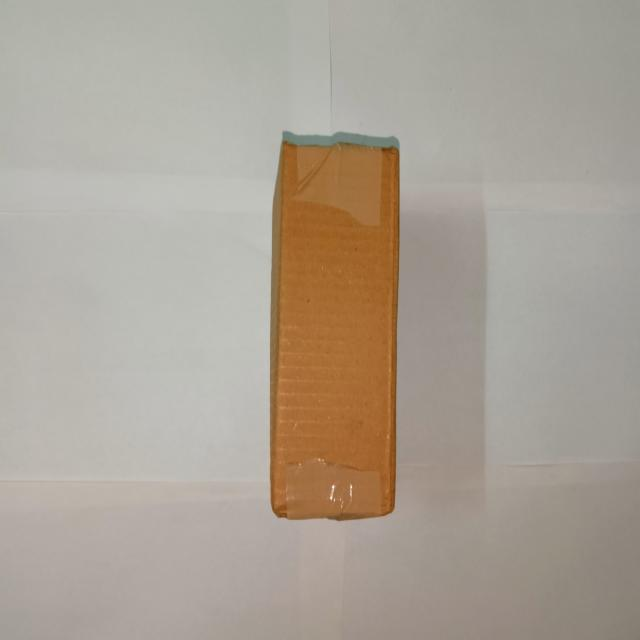box: (275, 140, 400, 524)
